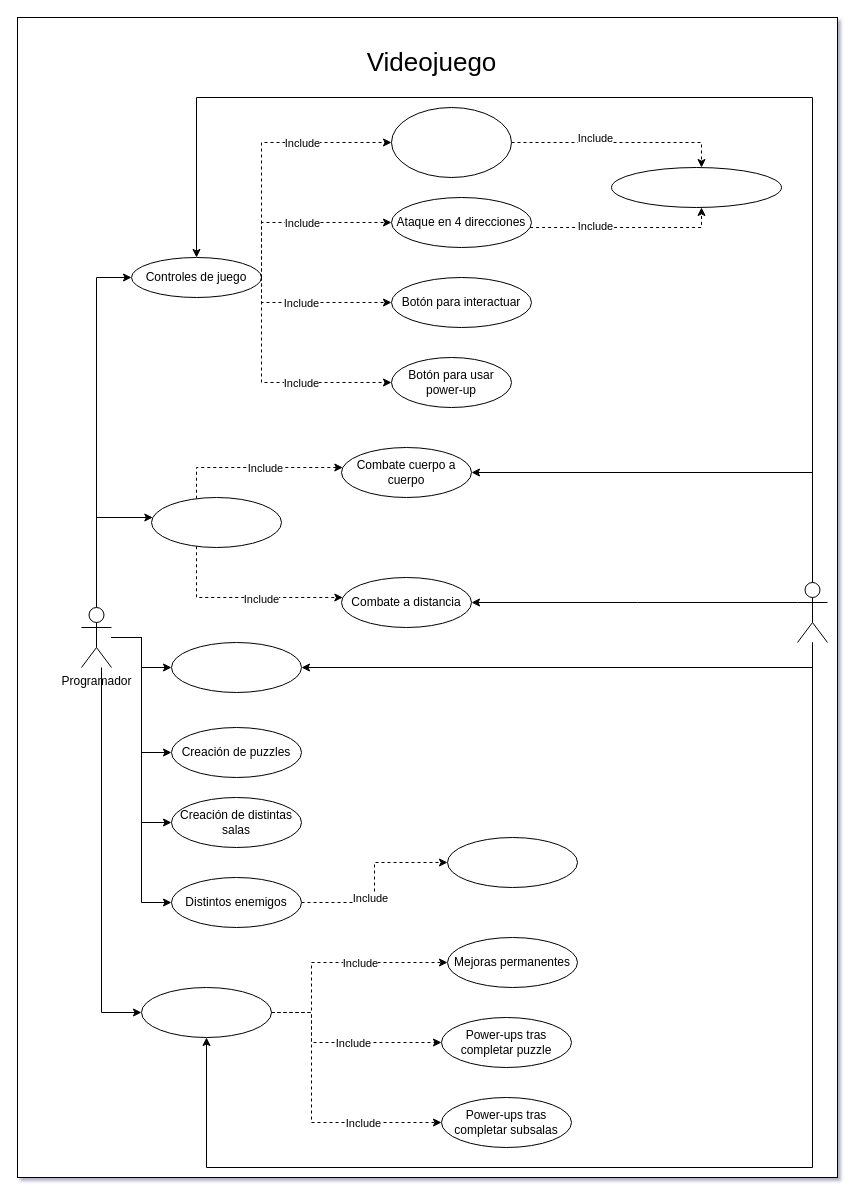
Image size: 861x1201. Some labels were removed from this diagram. The shapes that lost their labels are listed below. From the top down, each one's box as (x1, y1, x2, y2) in pixels, then its label:
(390, 106, 512, 178): Movimiento de personaje en 4 direcciones
(610, 166, 782, 208): Intercambiar controles
(150, 496, 282, 548): Físicas combate
(796, 582, 828, 642): Jugador
(170, 642, 302, 692): Curva de dificultad
(446, 836, 578, 888): Diseño del jefe
(140, 986, 272, 1038): Elementos roguelike
